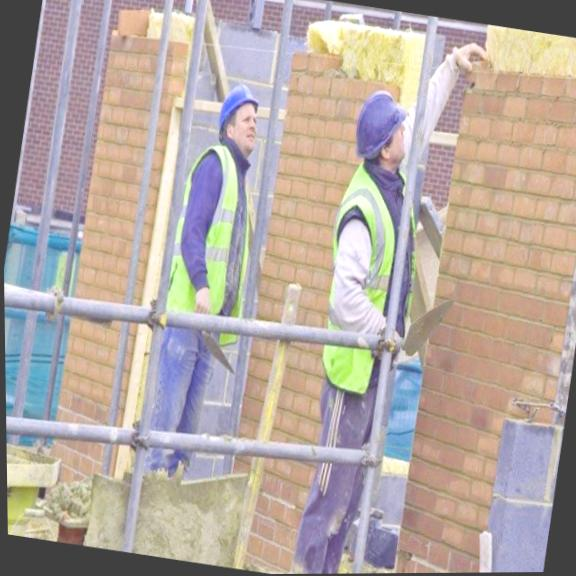safety_vest: (308, 154, 437, 413), (159, 140, 274, 358)
